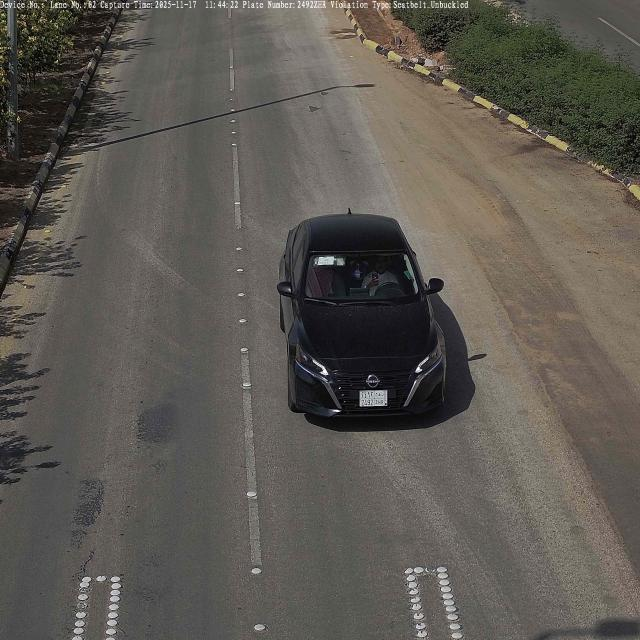person_without_seatbelt: (361, 254, 399, 297)
